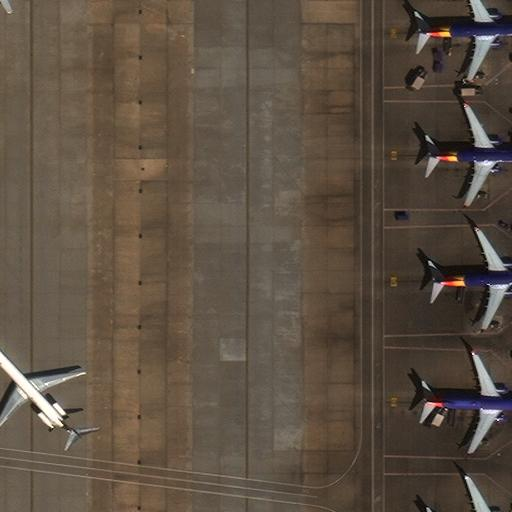Medium Civil Transport: (424, 352, 512, 452), (427, 104, 512, 205), (432, 228, 512, 329), (0, 341, 82, 439), (417, 0, 512, 80), (441, 476, 512, 512)
